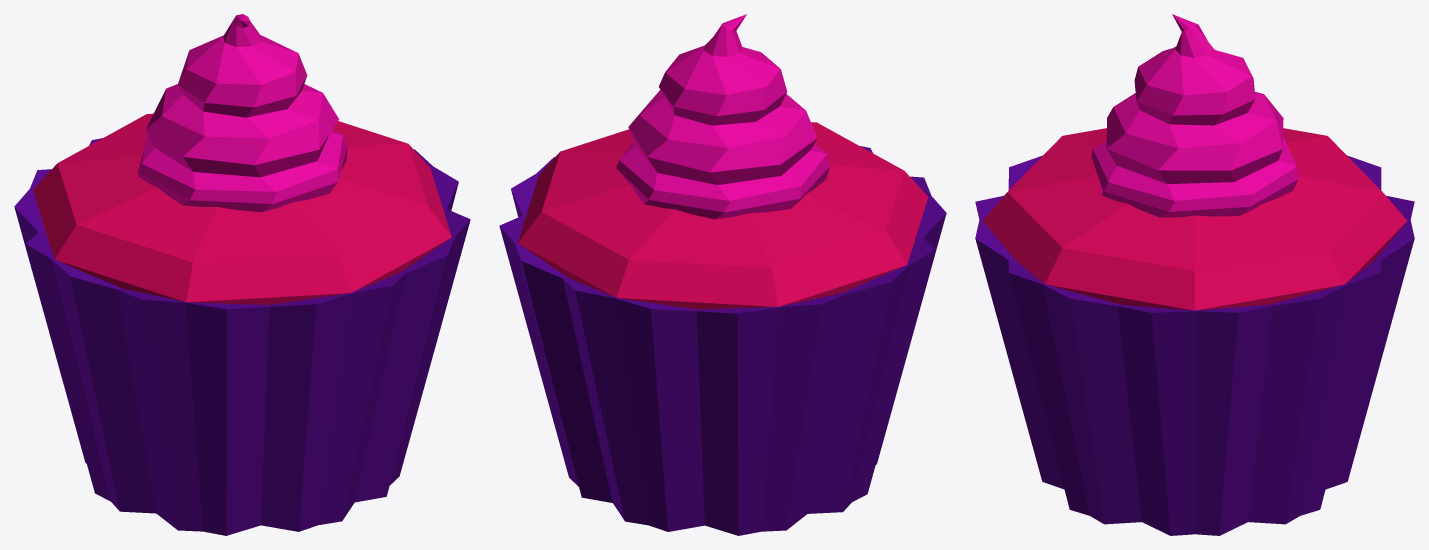
File: Cupcake_01.fbx
3 renders of one model, left to right at view 1: azimuth 30°, elevation 25°; view 2: azimuth 150°, elevation 25°; view 3: azimuth 270°, elevation 25°, orthographic. The views are drawn at different scales.
Parts seen in each view (by area): view 1: Cupcake_01; view 2: Cupcake_01; view 3: Cupcake_01.
Boxes of the visible parts, bbox=[...] form: Cupcake_01: bbox=[14, 14, 470, 535]; Cupcake_01: bbox=[499, 14, 946, 535]; Cupcake_01: bbox=[975, 14, 1414, 535].
Size of the model in its own units: 5.48 by 6.2 by 5.48.
